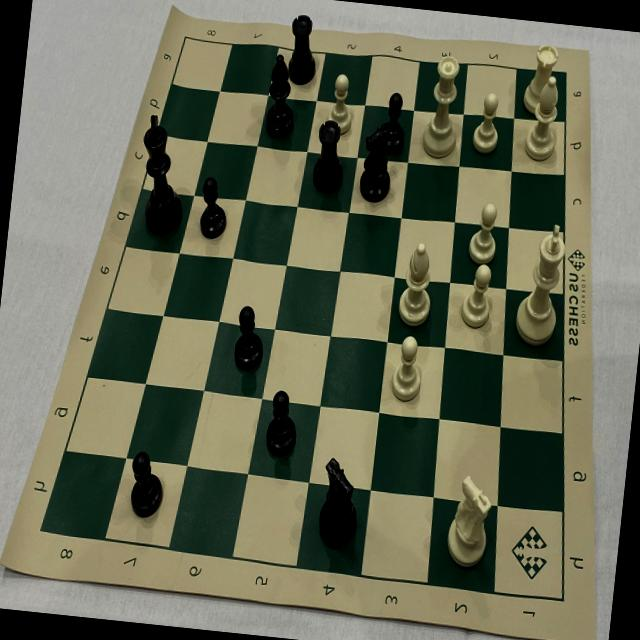black-bishop: (260, 48, 305, 144)
black-king: (130, 106, 194, 241)
black-knight: (308, 447, 366, 558), (353, 120, 398, 208)
black-pawn: (259, 381, 306, 464), (124, 444, 171, 524), (229, 300, 270, 378), (372, 87, 412, 158), (193, 170, 232, 242)
black-rook: (302, 115, 351, 197), (278, 11, 324, 90)
white-bishop: (393, 235, 441, 332), (521, 72, 568, 166)
white-king: (508, 216, 576, 353)
white-knight: (436, 467, 499, 576)
white-pawn: (384, 328, 431, 408), (457, 258, 503, 334), (464, 85, 508, 161), (464, 196, 506, 268), (320, 66, 360, 140)
white-queen: (416, 47, 472, 167)
white-rook: (516, 30, 566, 120)
